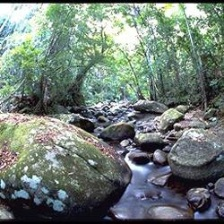neutral: (1, 4, 224, 218)
